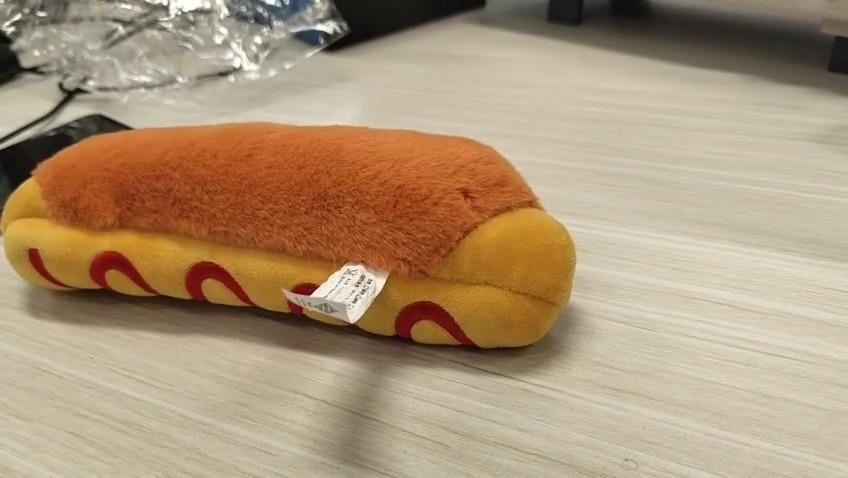hotdog: (0, 125, 575, 349)
